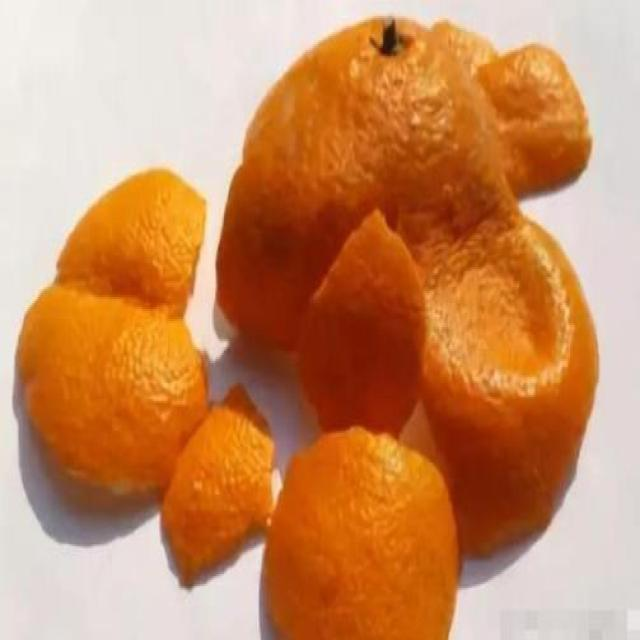Wet Waste: (15, 6, 601, 640)
